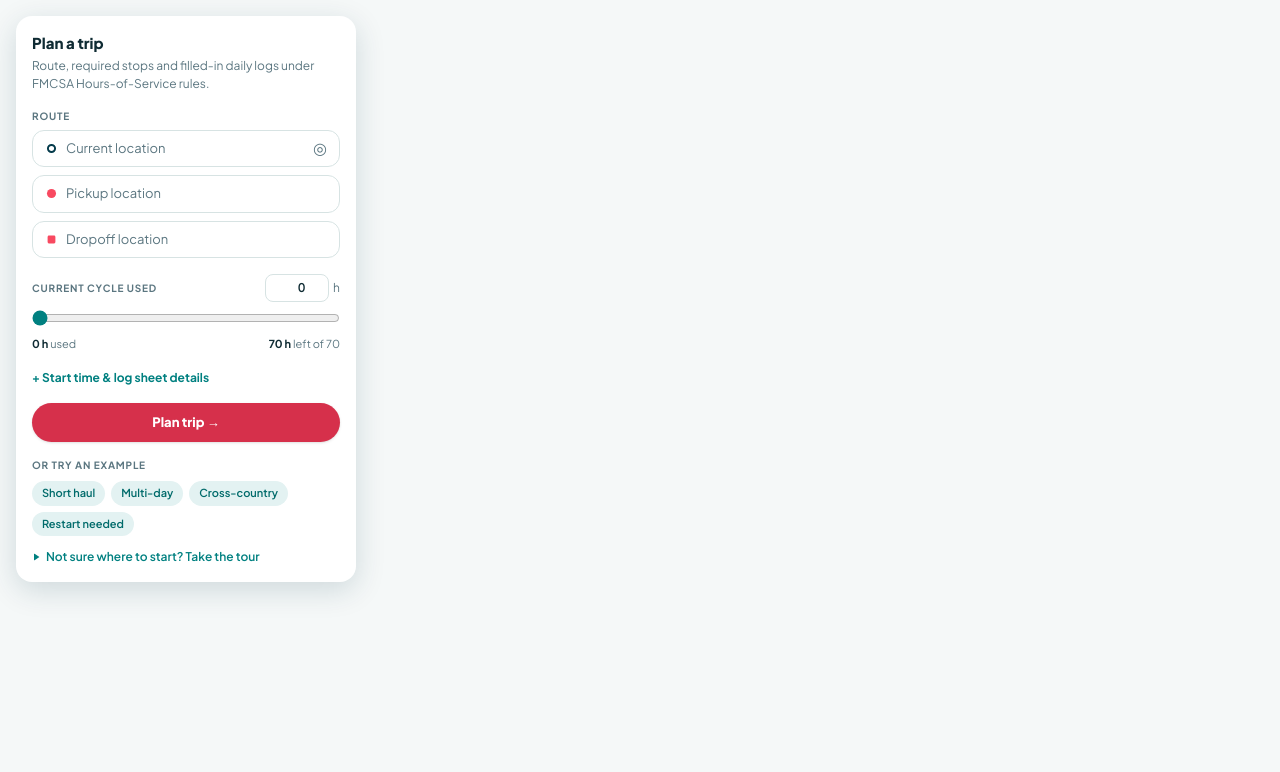
Test: Workspace › keeps the results while the URL catches up after planning
The width and height of the screenshot is (1280, 772).
Click the button "Multi-day". click: (147,493)
box: [111,481,183,506]
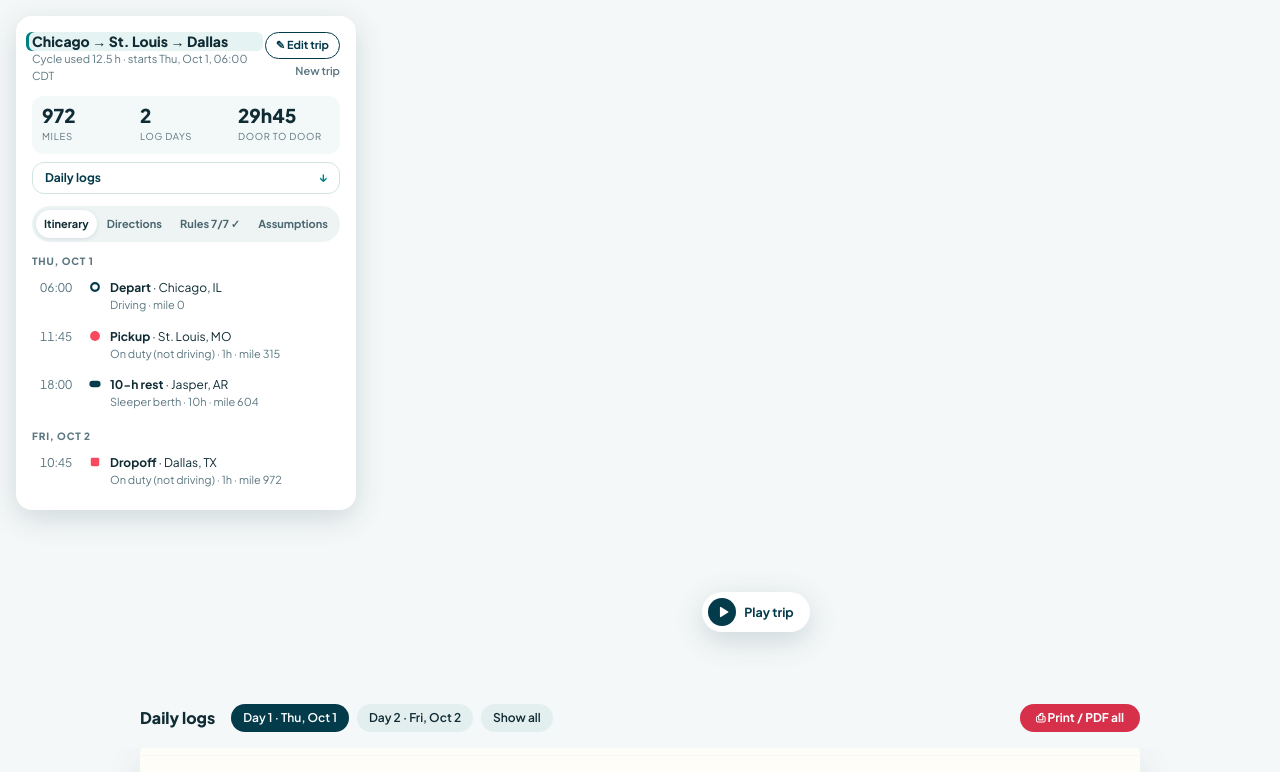
Expected: the heading "Chicago → St. Louis → Dallas" is shown, [26,32,263,51]
